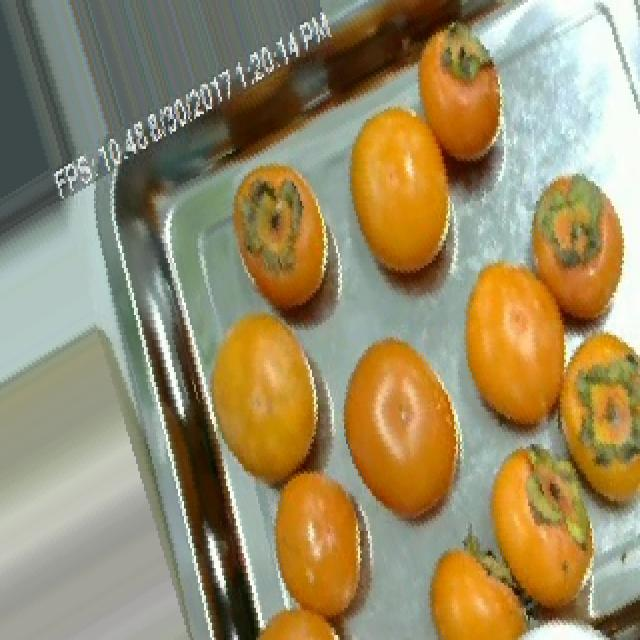Fruit: (330, 317, 484, 538), (192, 285, 338, 506), (330, 79, 466, 298), (256, 449, 400, 640), (472, 427, 606, 632), (514, 156, 640, 357), (448, 241, 574, 439), (214, 149, 342, 327), (414, 533, 540, 640)
